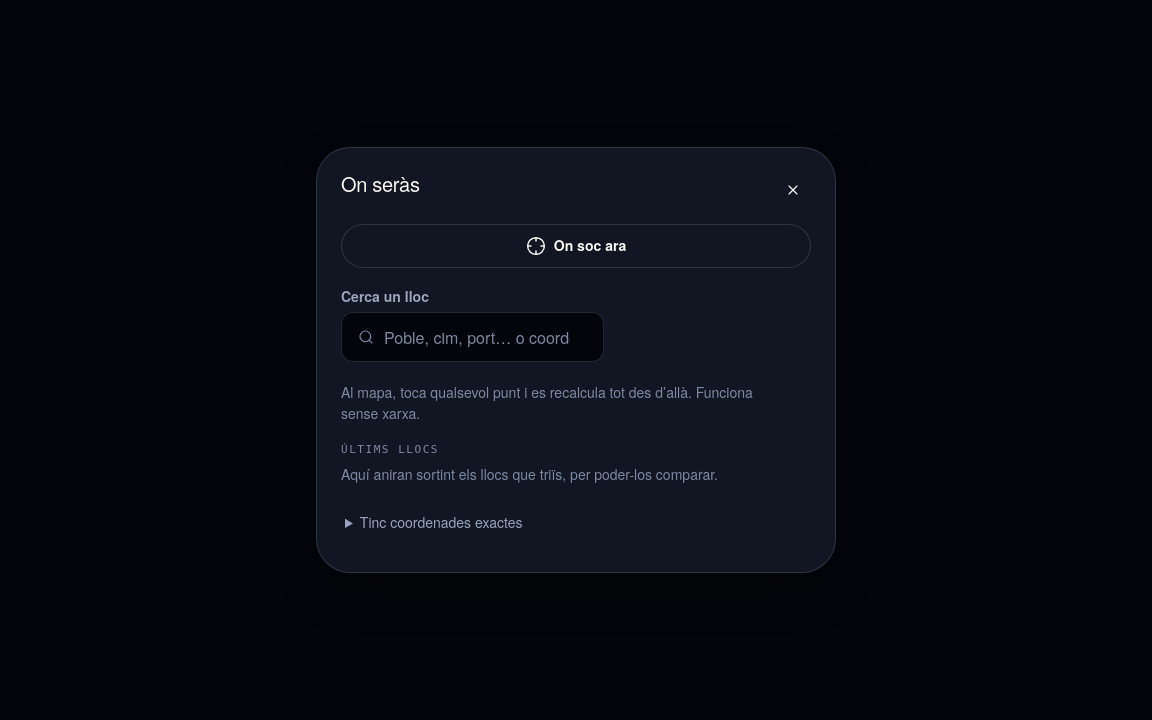
Test: LocationSheet · el cercador entén coordenades i no gasta xarxa › amb coma decimal, que és com les enganxa la gent d’aquí
The width and height of the screenshot is (1152, 720).
Type "41,3851, 2,1734" into the search field labelled "Cerca un lloc".
click(484, 337); type("41,3851, 2,1734")  # box [382, 313, 587, 361]
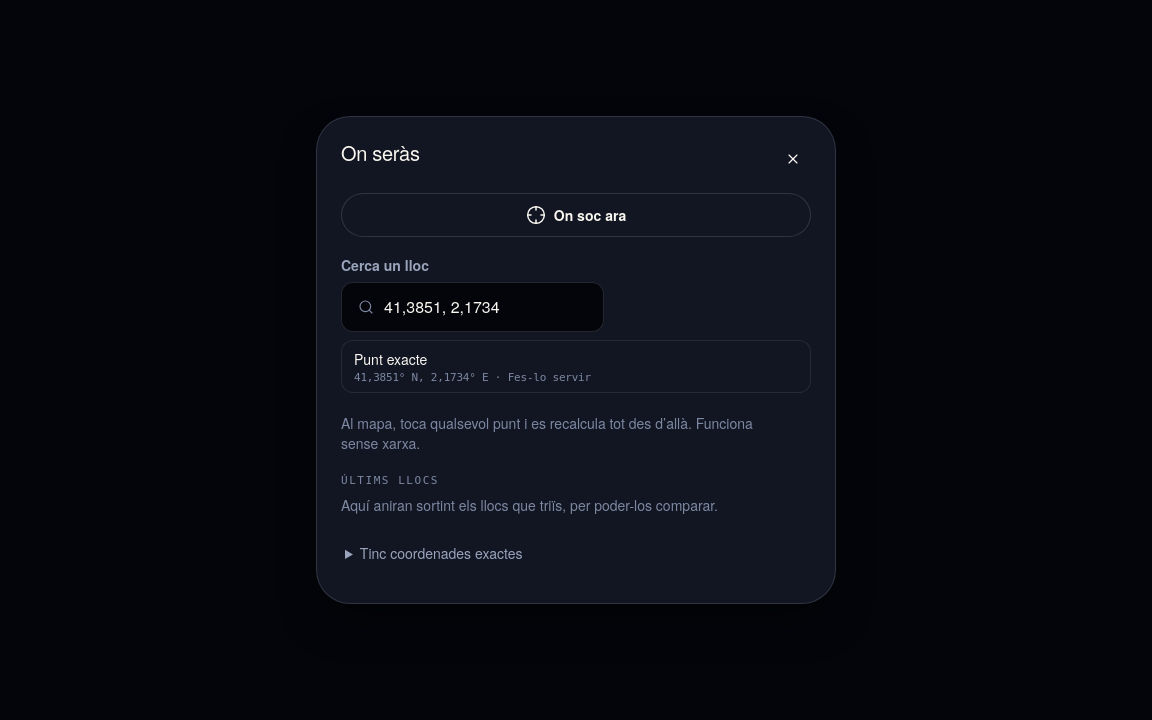
Result: the text "Punt exacte" is shown at [354, 349, 427, 369]
